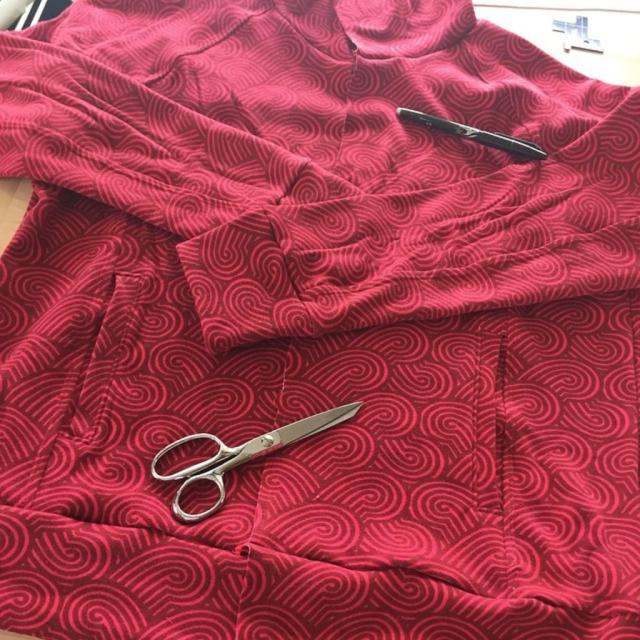scissor: (151, 395, 363, 524)
